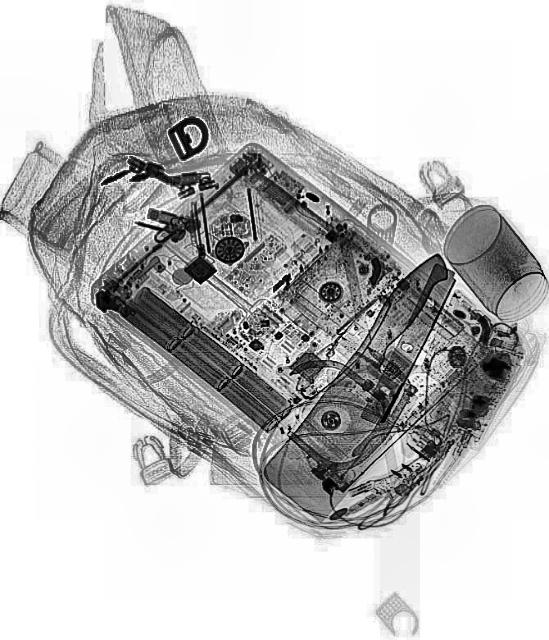Knife: (257, 244, 493, 526)
